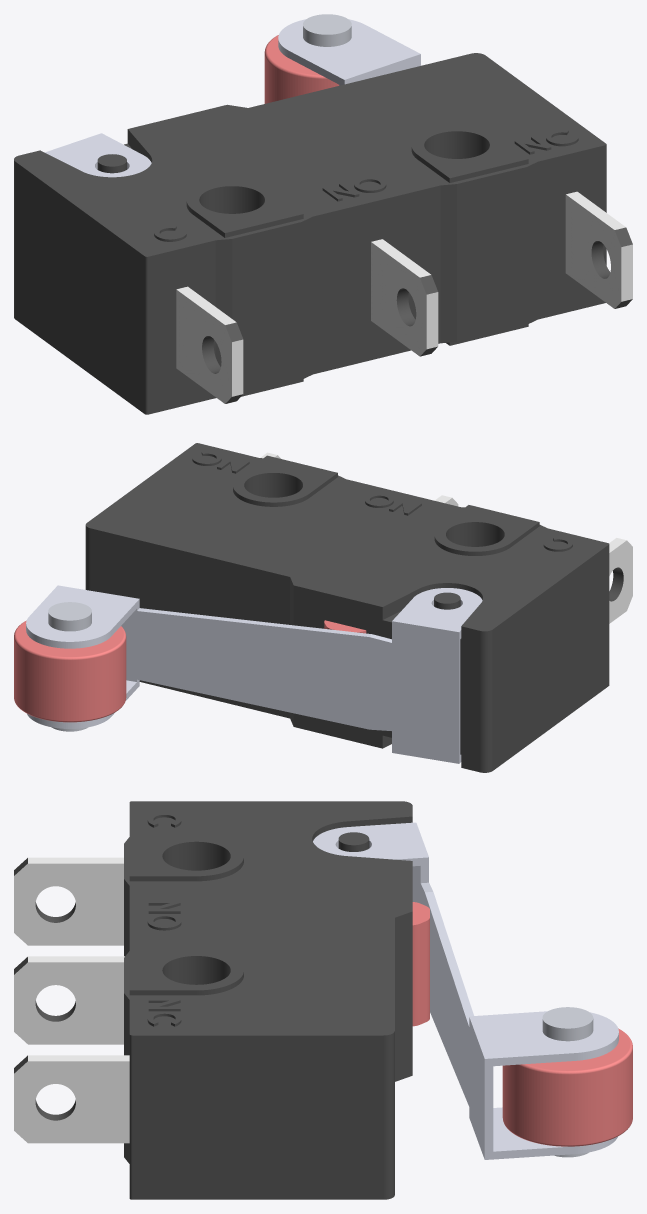
Rendered from model_web.glb.
The picture shows the model from 3 angles, top to bottom: view 1: azimuth 30°, elevation 25°; view 2: azimuth 150°, elevation 25°; view 3: azimuth 270°, elevation 25°; orthographic projection. The views are drawn at different scales.
Visible parts, largest first — view 1: Node1, Node2, Node3, Node4, Node5; view 2: Node1, Node3, Node4, Node2, Node5; view 3: Node1, Node2, Node3, Node4, Node5.
Part boxes in pixels (bbox=[...]): Node1: bbox=[14, 53, 632, 414]; Node2: bbox=[176, 191, 632, 403]; Node3: bbox=[45, 19, 420, 177]; Node4: bbox=[264, 35, 339, 103]; Node5: bbox=[303, 14, 351, 46]; Node1: bbox=[85, 443, 623, 772]; Node3: bbox=[26, 585, 482, 763]; Node4: bbox=[14, 620, 366, 722]; Node2: bbox=[260, 452, 632, 623]; Node5: bbox=[48, 602, 91, 731]; Node1: bbox=[14, 801, 412, 1199]; Node2: bbox=[14, 857, 129, 1143]; Node3: bbox=[313, 822, 618, 1159]; Node4: bbox=[412, 902, 632, 1146]; Node5: bbox=[542, 1007, 593, 1157].
Bounding box in the file's own units: 19.88 × 6.9 × 22.2.
